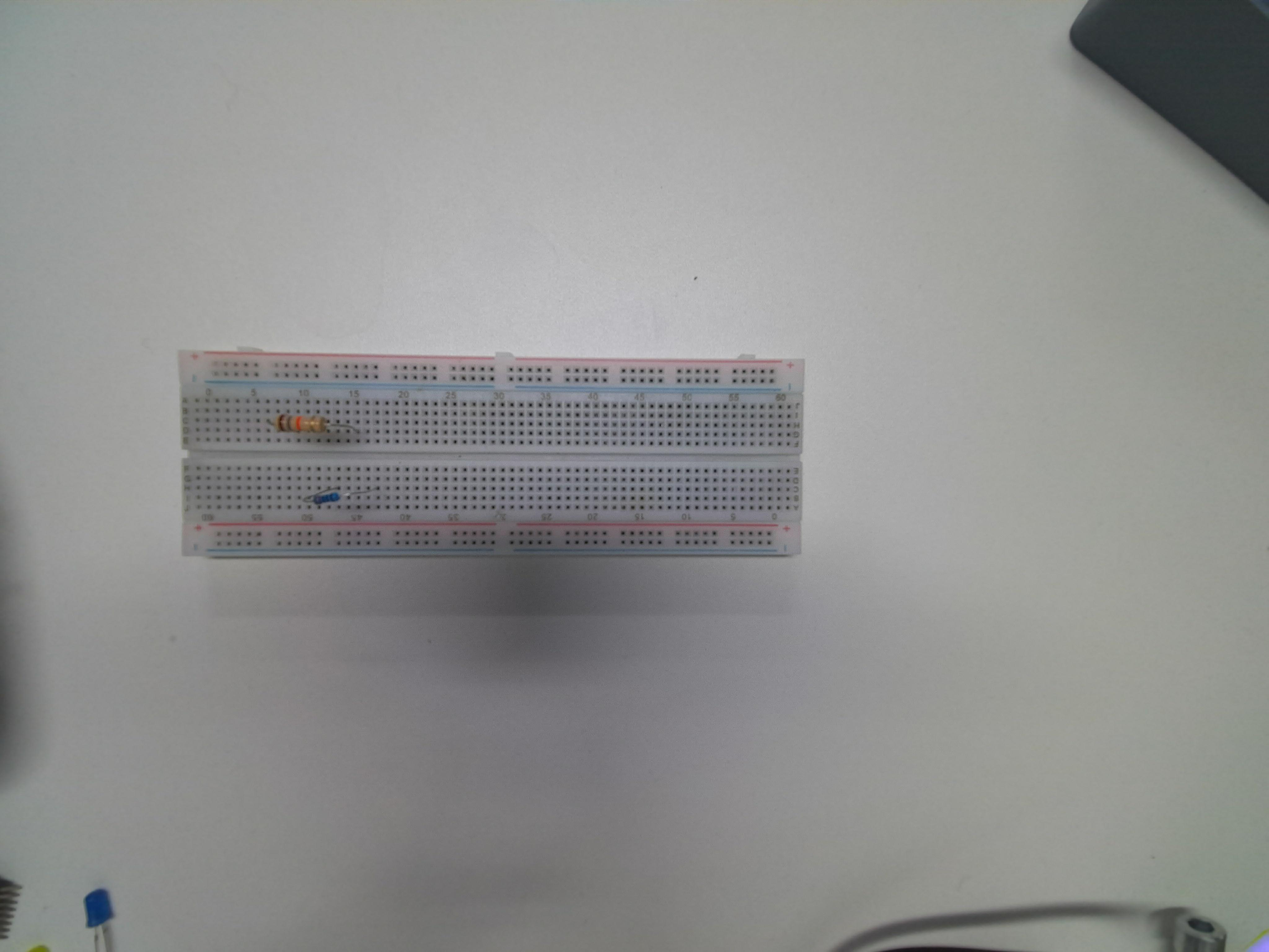base: (175, 350, 806, 562)
blue-led: (84, 888, 113, 925)
resistor-big: (280, 409, 327, 440)
resistor-small: (314, 491, 339, 505)
